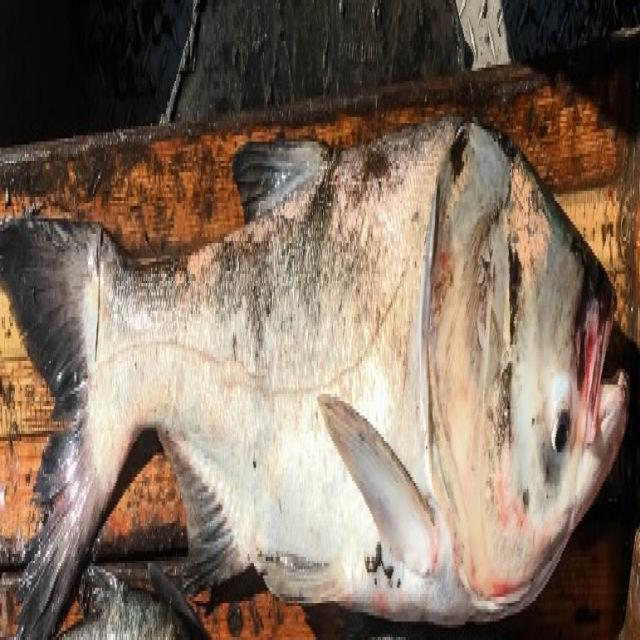Big-Head-Carp: (8, 31, 633, 631)
